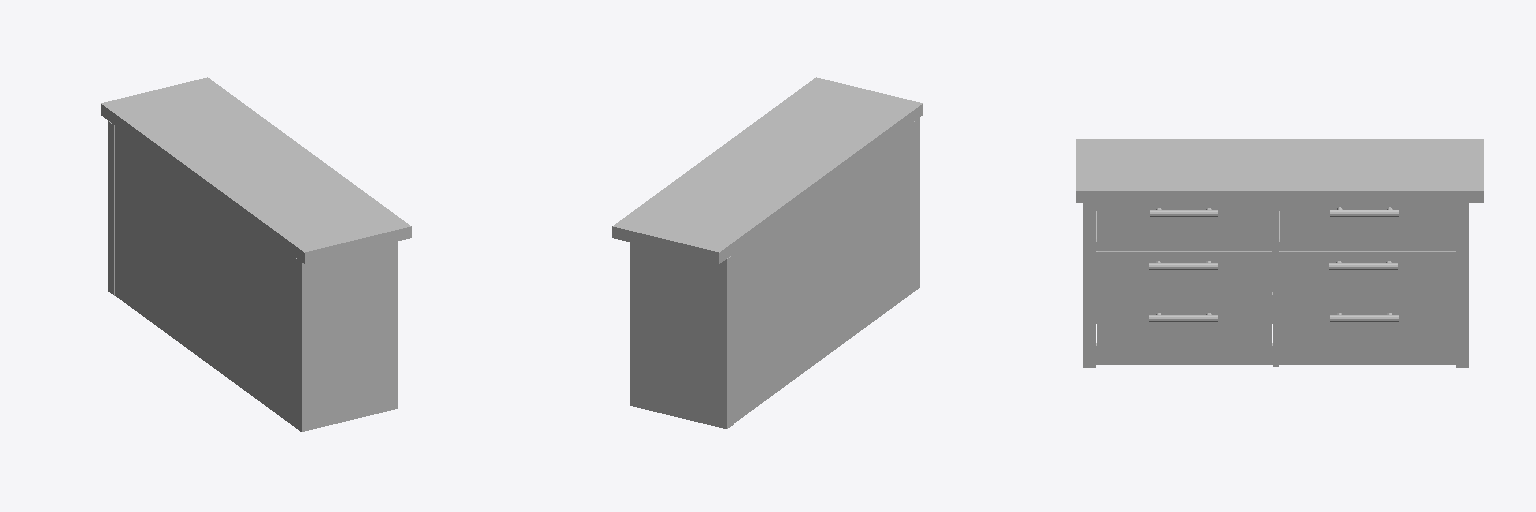
Rendered from dresser.obj.
3 renders of one model, left to right at view 1: azimuth 30°, elevation 25°; view 2: azimuth 150°, elevation 25°; view 3: azimuth 270°, elevation 25°, orthographic.
Bounding box in the file's own units: 1.12 × 1.81 × 3.67.